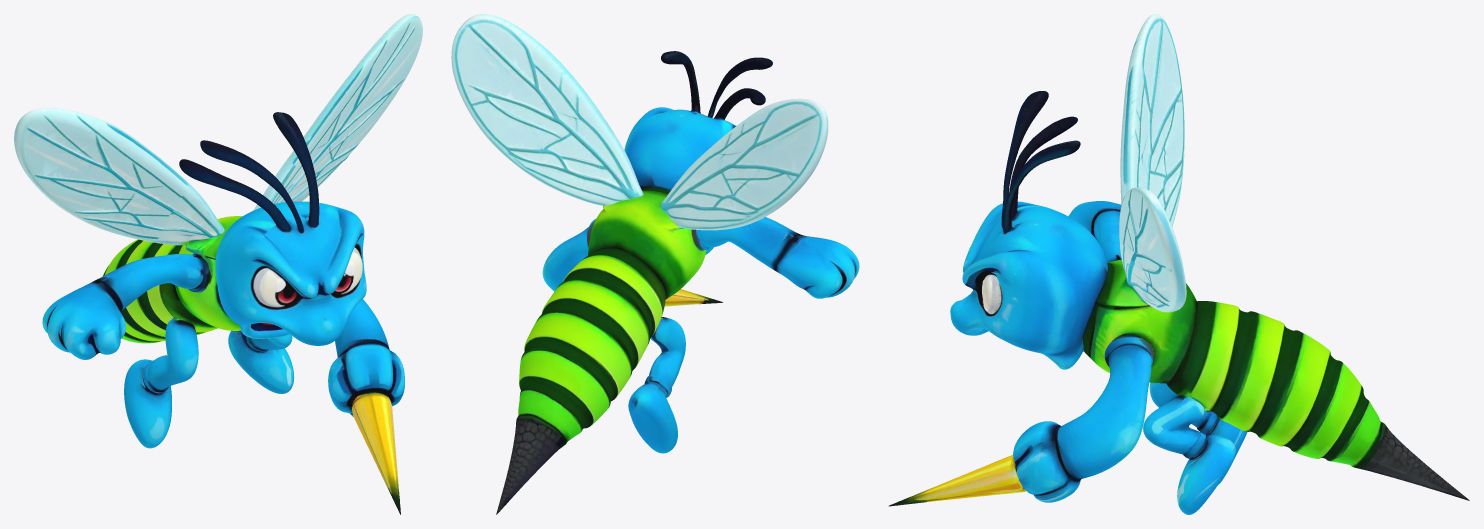
File: 3d_stinger.glb
3 views of the same model, side by side, from view 1: azimuth 30°, elevation 25°; view 2: azimuth 150°, elevation 25°; view 3: azimuth 270°, elevation 25° (orthographic). The views are drawn at different scales.
Bounding box in the file's own units: 1.56 × 1.47 × 1.9.
1 material, 1 textured.
